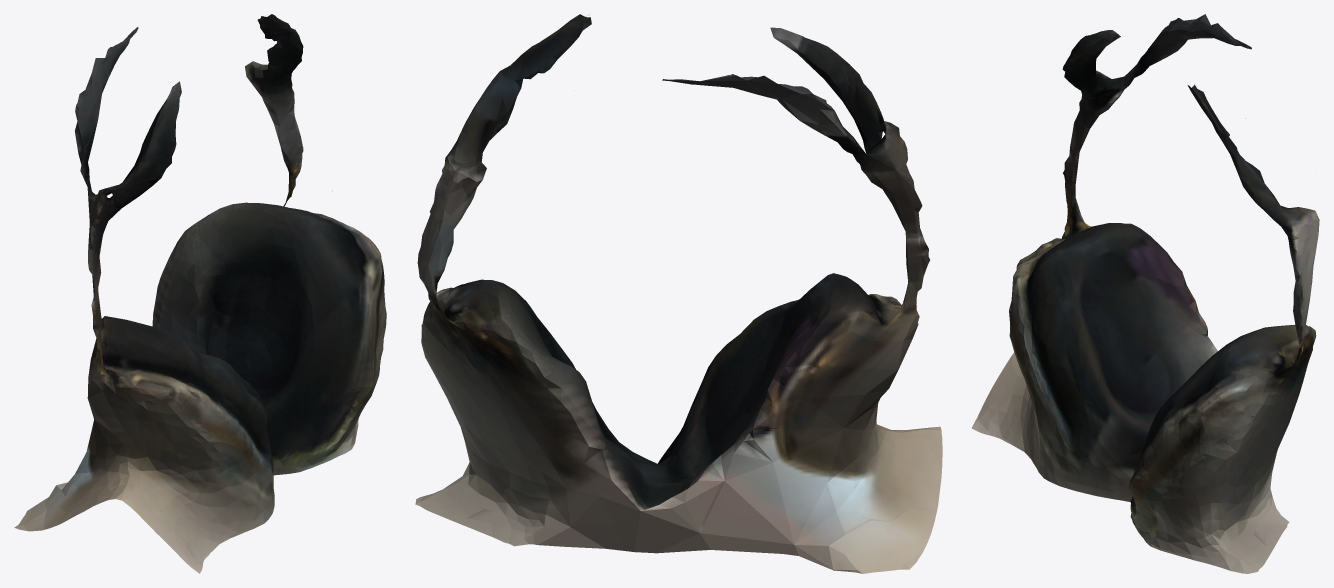
File: airpodmax.glb
3 renders of one model, left to right at view 1: azimuth 30°, elevation 25°; view 2: azimuth 150°, elevation 25°; view 3: azimuth 270°, elevation 25°, orthographic. The views are drawn at different scales.
Size of the model in its own units: 0.1692 by 0.1786 by 0.131.
1 material, 1 textured.
